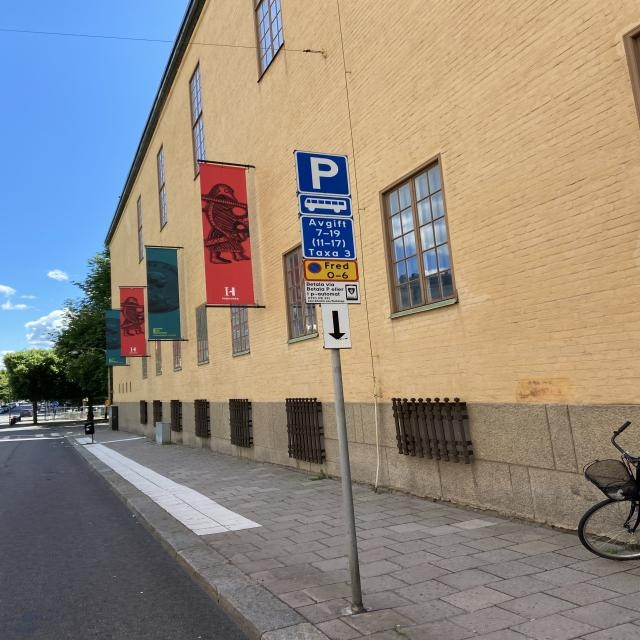P-skylt: (294, 147, 348, 195)
